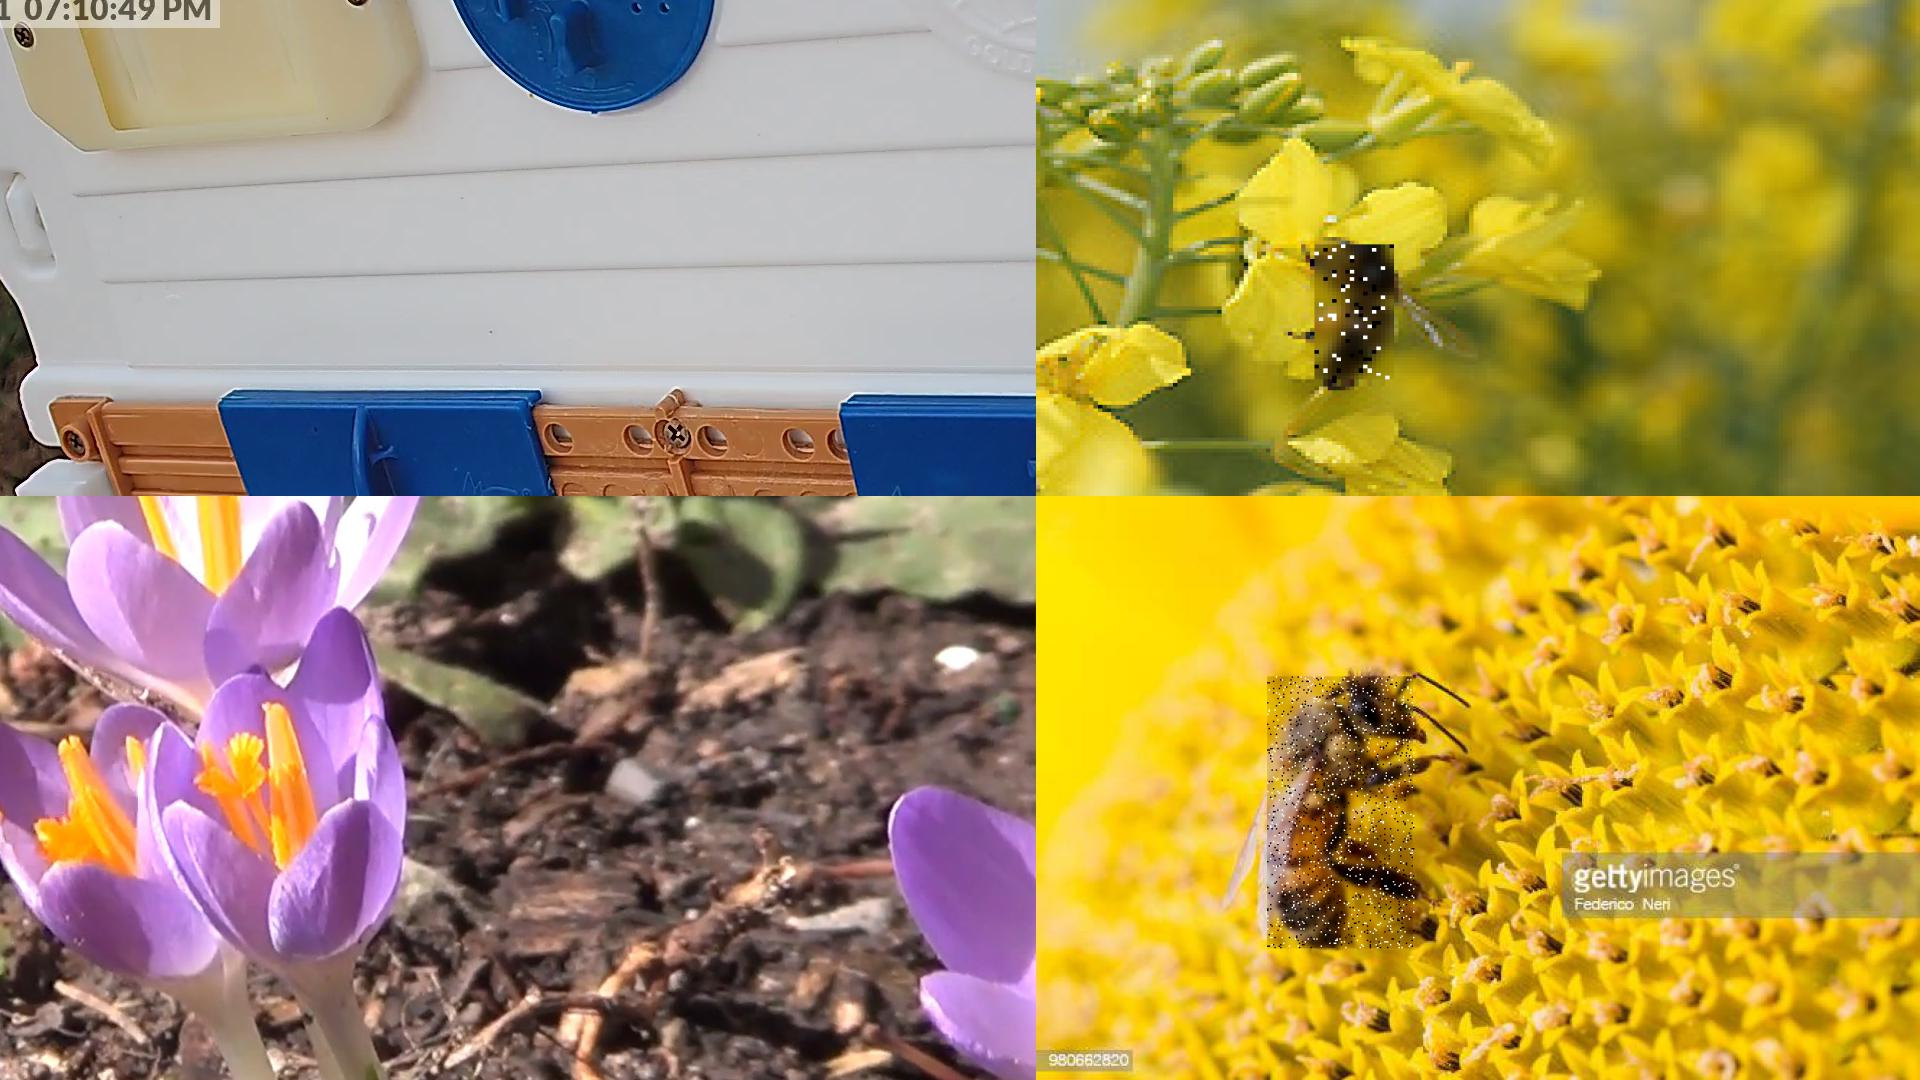bee: (1269, 676, 1418, 949)
pollenbee: (1315, 248, 1399, 389)
